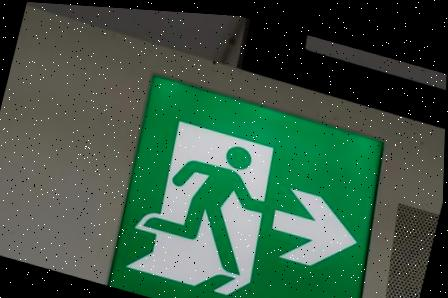emergency_exit: (106, 74, 386, 297)
